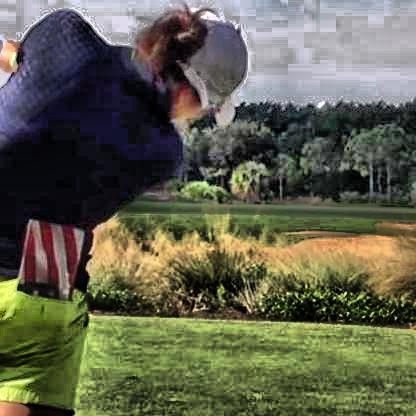golfball: (314, 98, 323, 109)
